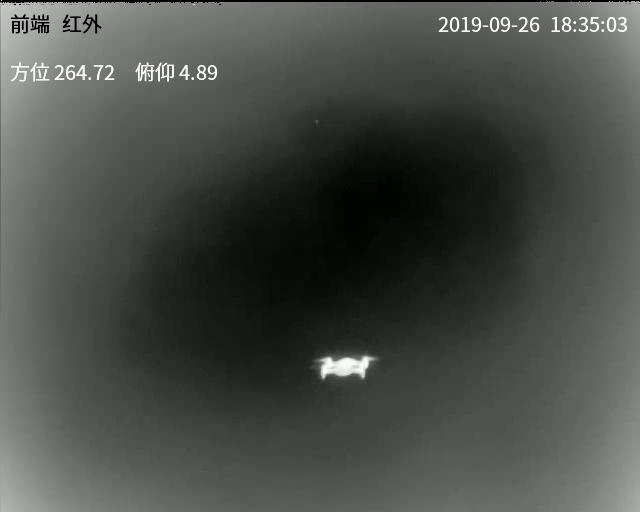DRONE: (314, 354, 374, 378)
